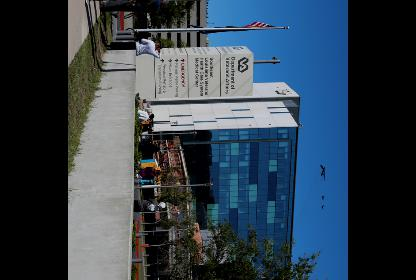B2: (320, 164, 326, 180)
F117: (322, 204, 324, 208), (322, 194, 324, 198)
